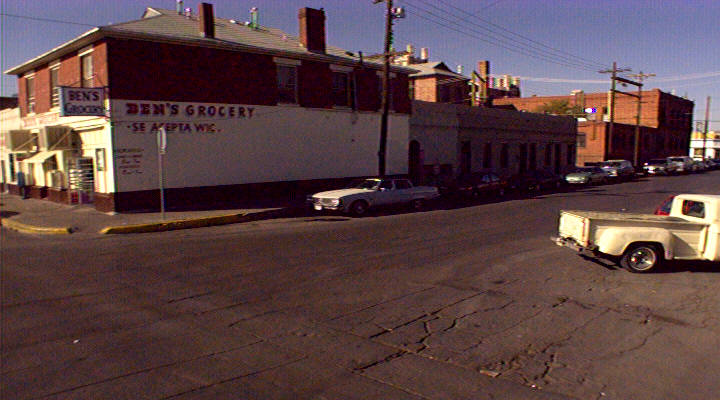Ramp: (57, 213, 118, 242)
